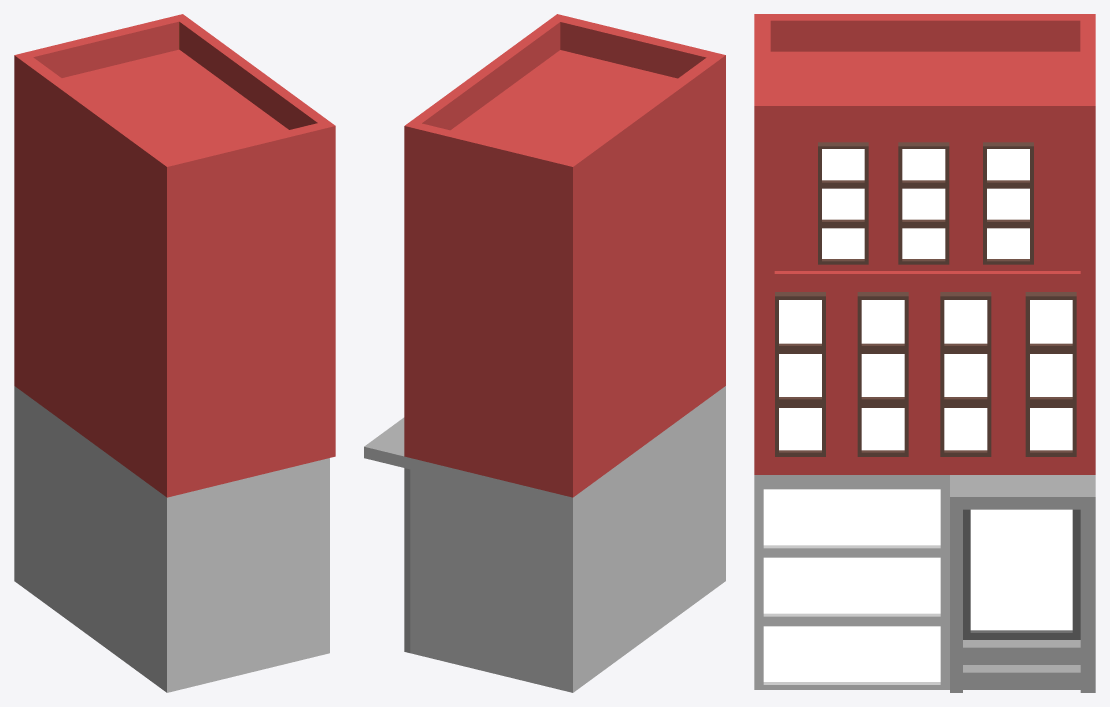
The model's file is House 3.4.fbx.
3 views of the same model, side by side, from view 1: azimuth 30°, elevation 25°; view 2: azimuth 150°, elevation 25°; view 3: azimuth 270°, elevation 25° (orthographic). The views are drawn at different scales.
Visible parts, largest first — view 1: House 3.005; view 2: House 3.005; view 3: House 3.005.
Part boxes in pixels (x1=…): House 3.005: x1=14, y1=14, x2=335, y2=692; House 3.005: x1=364, y1=14, x2=725, y2=692; House 3.005: x1=754, y1=14, x2=1095, y2=692.
Bounding box in the file's own units: 725 × 1743 × 919.
